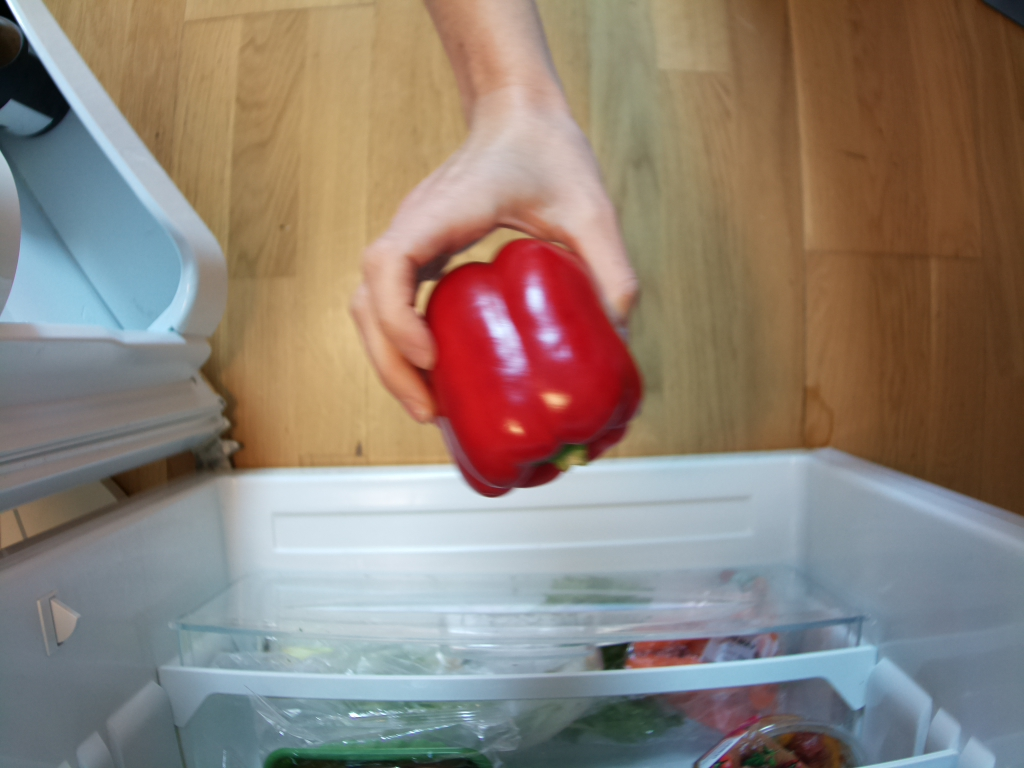pepper: (423, 235, 648, 496)
